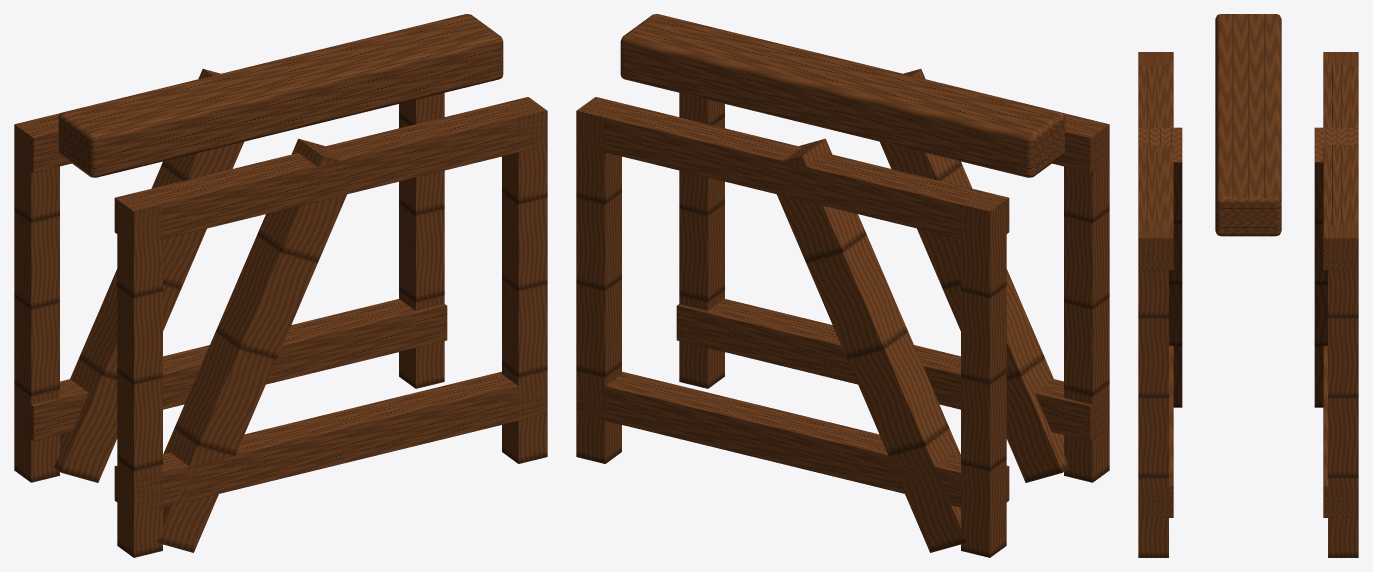
The model's file is rural-scavenging-settlements-workshop-sawhorse-e5e655b5__26586.glb.
The picture shows the model from 3 angles, left to right: view 1: azimuth 30°, elevation 25°; view 2: azimuth 150°, elevation 25°; view 3: azimuth 270°, elevation 25°; orthographic projection. The views are drawn at different scales.
Visible parts, largest first — view 1: workshop-sawhorse; view 2: workshop-sawhorse; view 3: workshop-sawhorse.
Part boxes in pixels (x1,y1,x2,y2): workshop-sawhorse: [14, 14, 547, 557]; workshop-sawhorse: [576, 14, 1109, 557]; workshop-sawhorse: [1138, 14, 1358, 557].
Size of the model in its own units: 1 by 0.9224 by 0.5001.
1 material, 1 textured.
